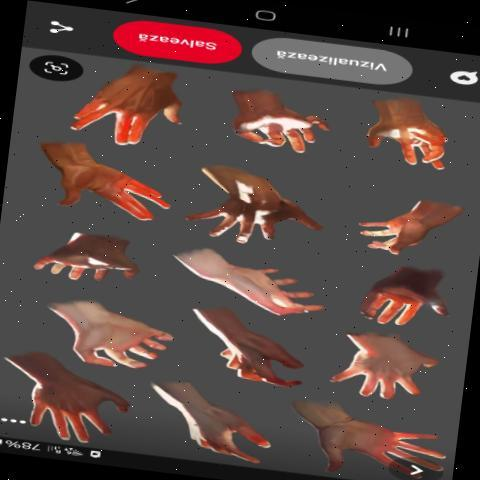Hands: (167, 239, 328, 338), (16, 284, 176, 382), (61, 66, 199, 167), (184, 164, 321, 258)
